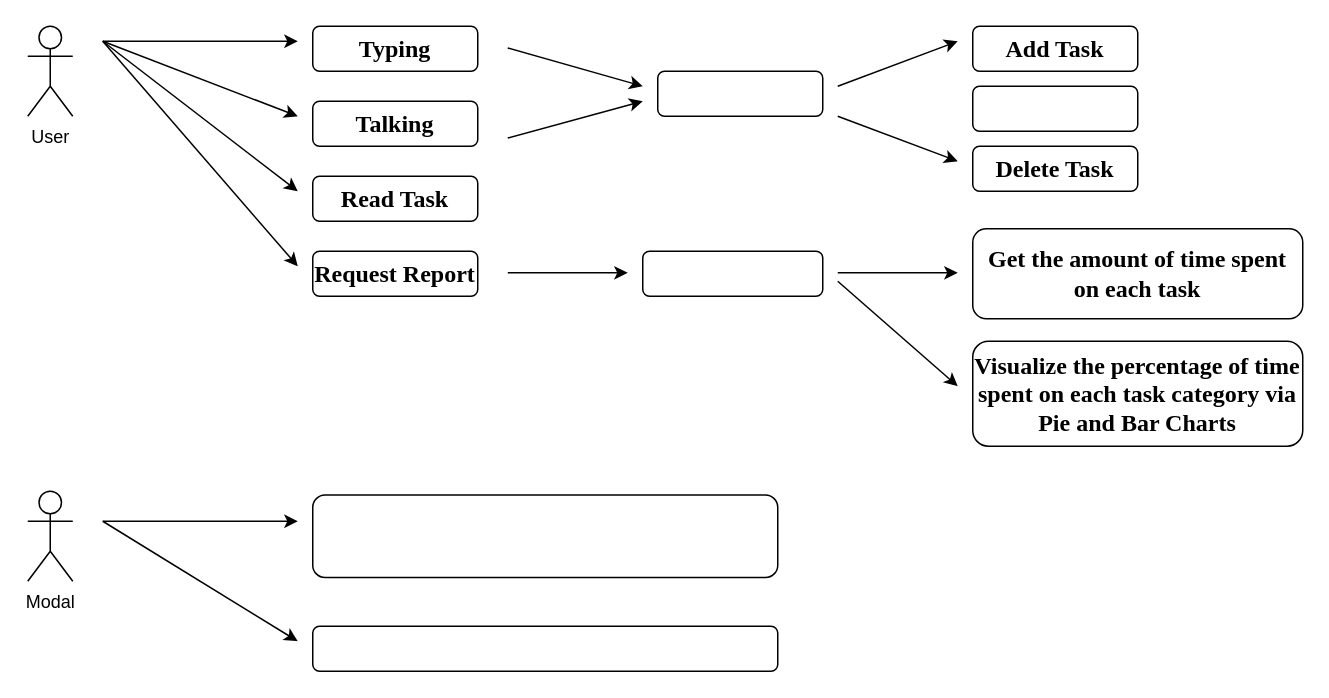
The diagram is 1329 pixels wide and 698 high, and some of its shapes have lost their labels. Each missing label, with the box of its shape:
Form: (656, 70, 823, 116)
React-Chartjs-2: (641, 250, 823, 296)
Send notification when users delete tasks: (311, 625, 778, 671)
Send notification when users make change on each tasks without sign in: (311, 494, 778, 578)
Update Task: (971, 85, 1138, 131)
